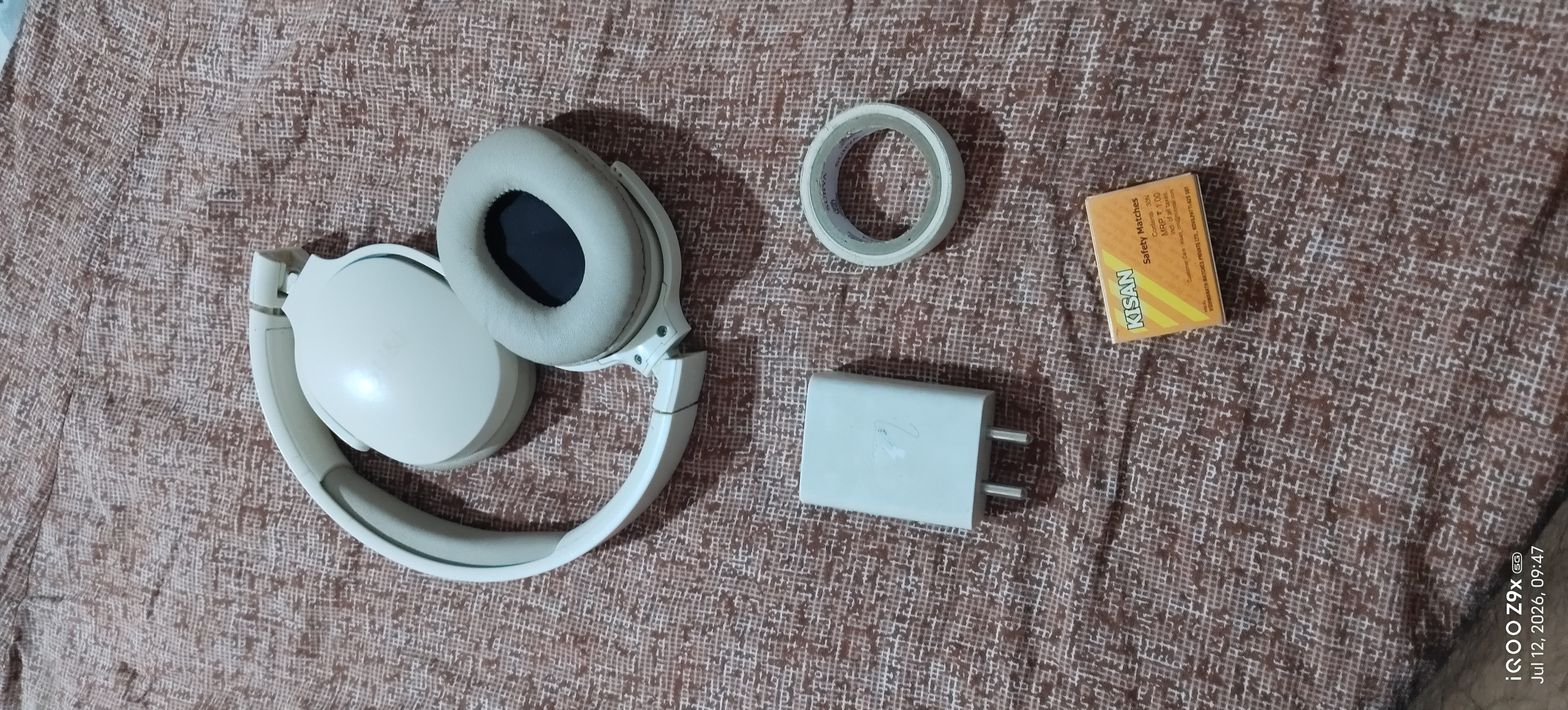charger: (779, 355, 1054, 554)
matchbox: (1071, 149, 1270, 360)
tape_roll: (775, 81, 981, 279)
